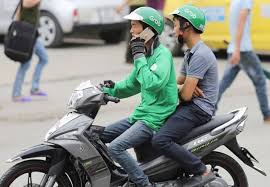helmet: (116, 5, 163, 51), (170, 5, 214, 39)
